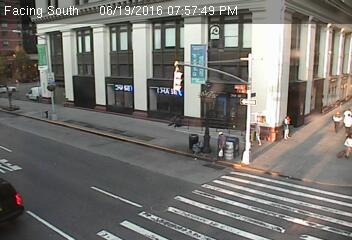neg: (169, 109, 185, 129), (122, 80, 134, 96), (42, 106, 52, 119)
pos: (278, 114, 296, 137), (340, 130, 351, 159), (330, 110, 344, 128), (341, 112, 351, 130), (347, 105, 351, 112)
